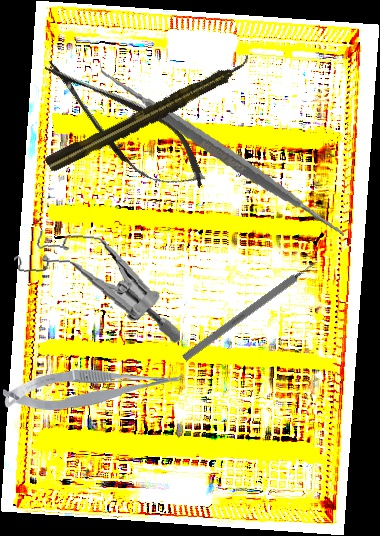Handpiece: (43, 52, 256, 176)
Hook Surgical: (181, 256, 323, 362)
Micro Scissor: (27, 40, 221, 210), (2, 366, 185, 413)
Spatula Surgical: (99, 29, 346, 275)
Speculum: (7, 225, 189, 346)
